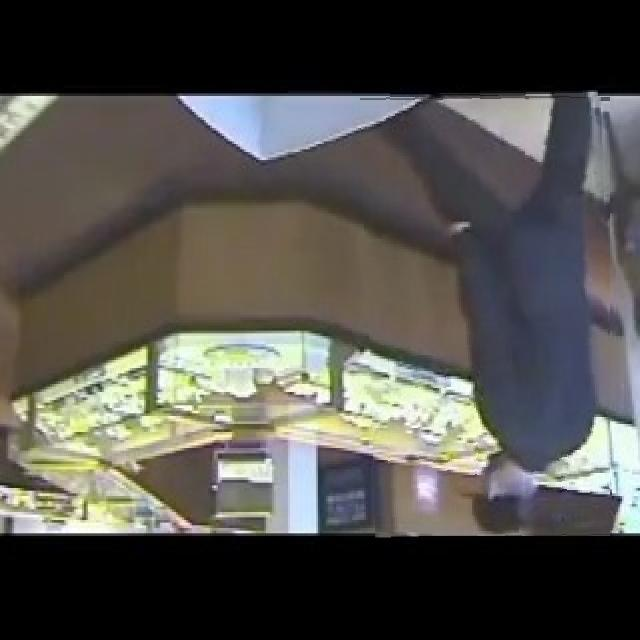normal: (364, 92, 610, 536)
